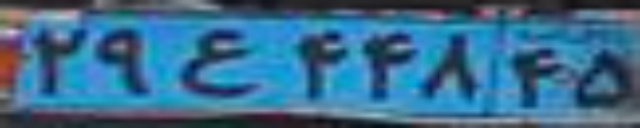2: (35, 25, 89, 96)
4: (291, 28, 350, 101), (356, 30, 416, 101), (504, 44, 564, 108)
5: (569, 44, 633, 109)
8: (424, 31, 479, 101)
9: (90, 24, 151, 95)
ain: (178, 25, 264, 98)
